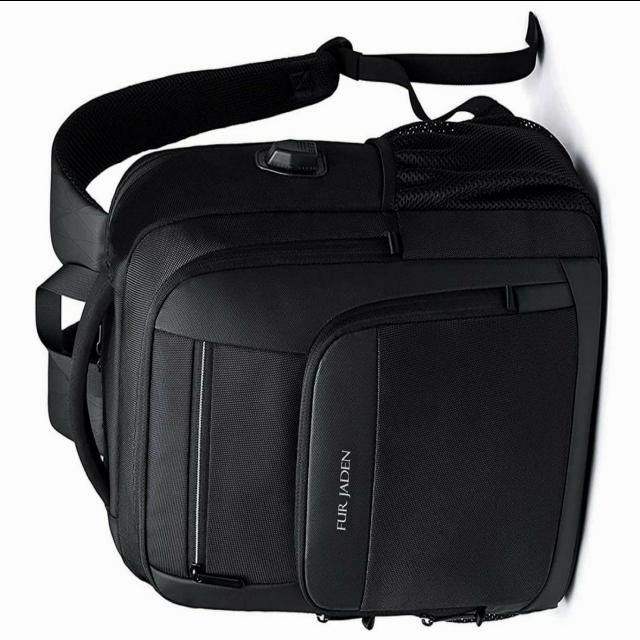backpack: (36, 13, 608, 631)
